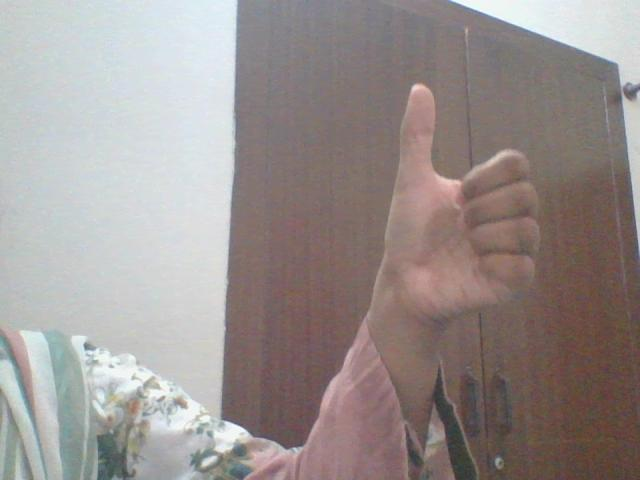thumbs-up: (375, 77, 546, 317)
